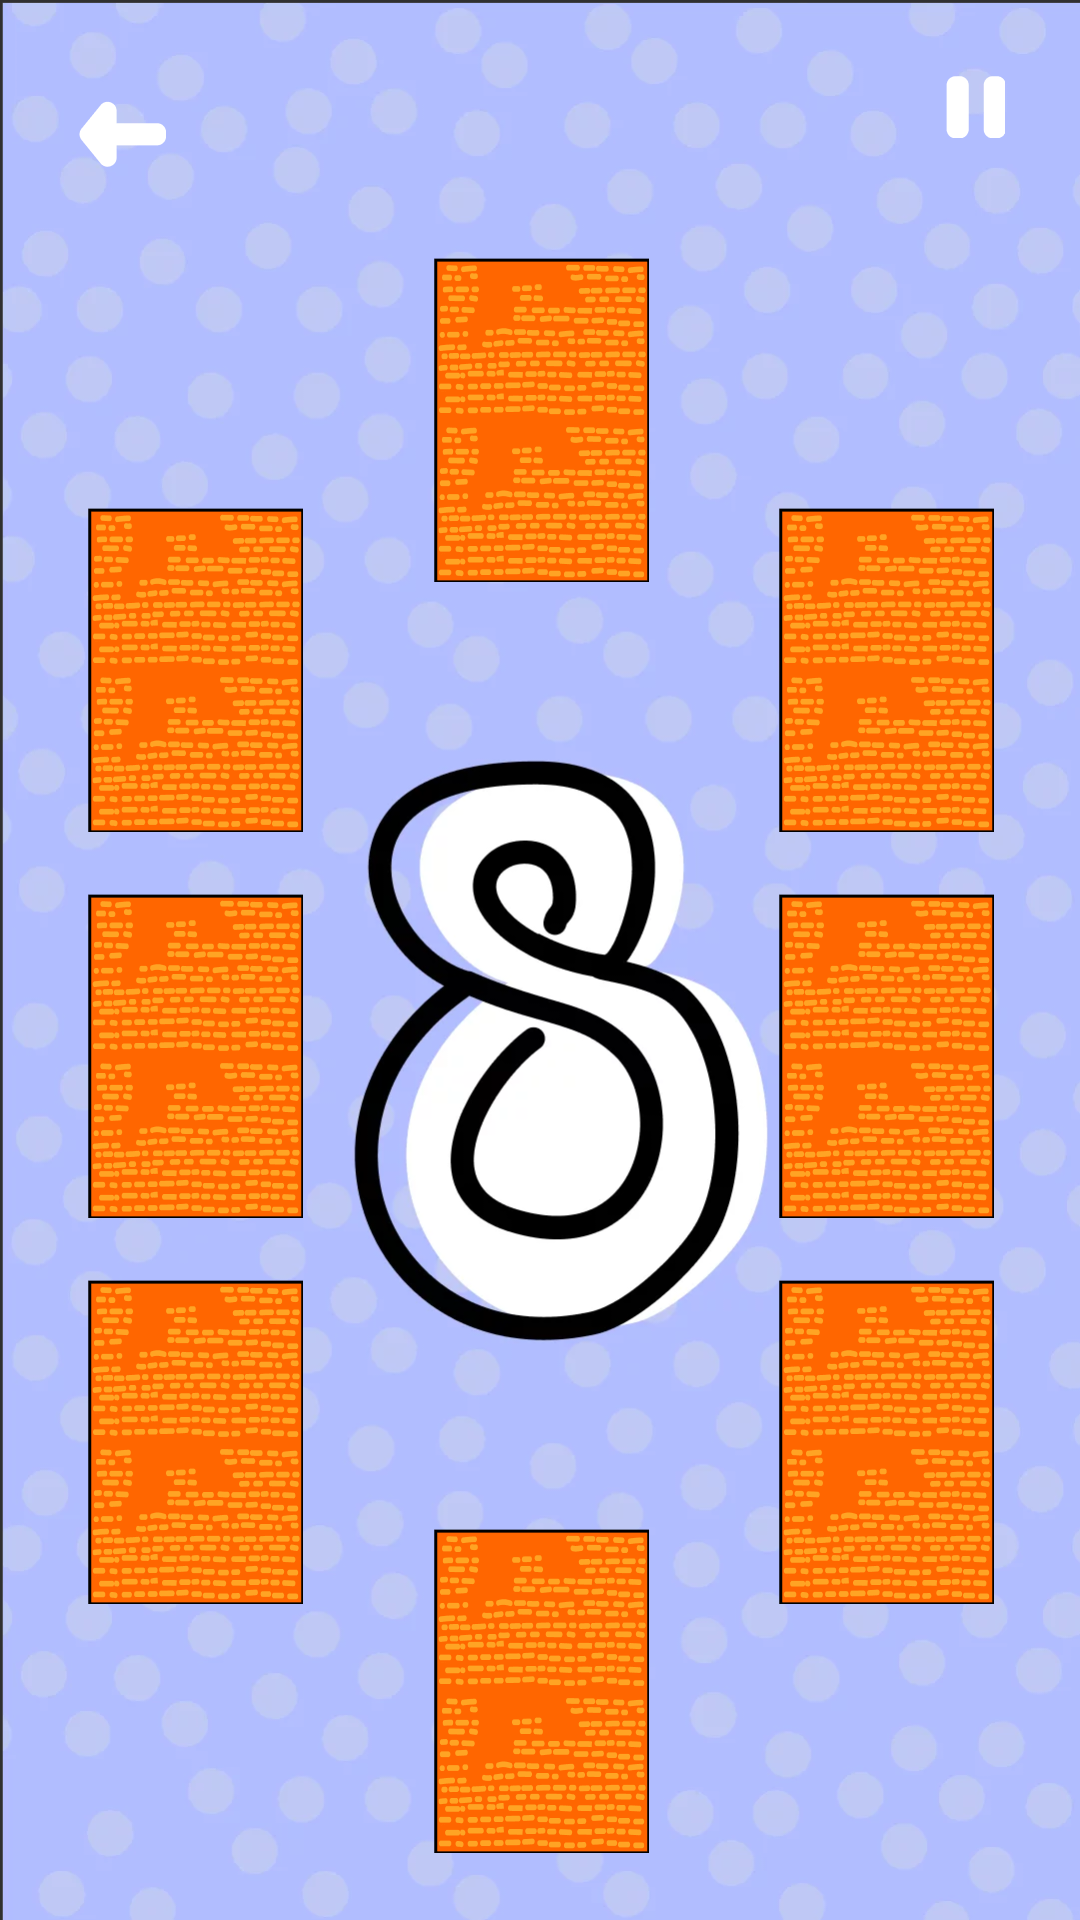

Icons on this 1080*1920 Android screen, each with the point to tap as (x=x, y=y):
pause: (x=975, y=107)
two card back: (x=541, y=420), (x=195, y=670), (x=886, y=670), (x=195, y=1056), (x=886, y=1056), (x=195, y=1442), (x=886, y=1442), (x=541, y=1691)
